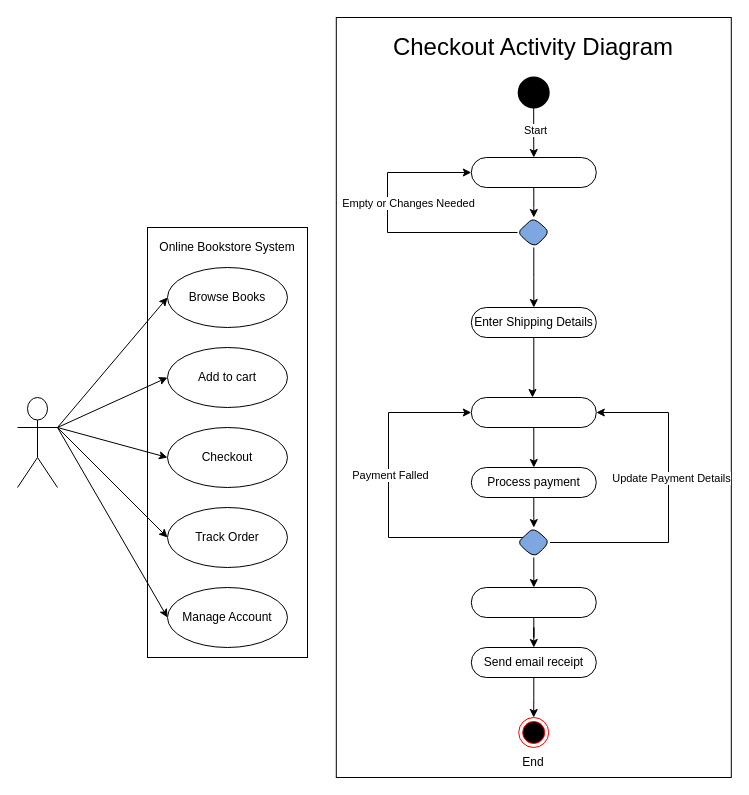
The diagram is 749 pixels wide and 795 high, and some of its shapes have lost their labels. Here are the shapes that lost their labels. From the top down, the box of each, then its label:
(470, 156, 596, 188): Review Cart
(470, 396, 596, 428): Choose Payment Method
(16, 396, 58, 488): Actor
(470, 586, 596, 618): Confirm Order
